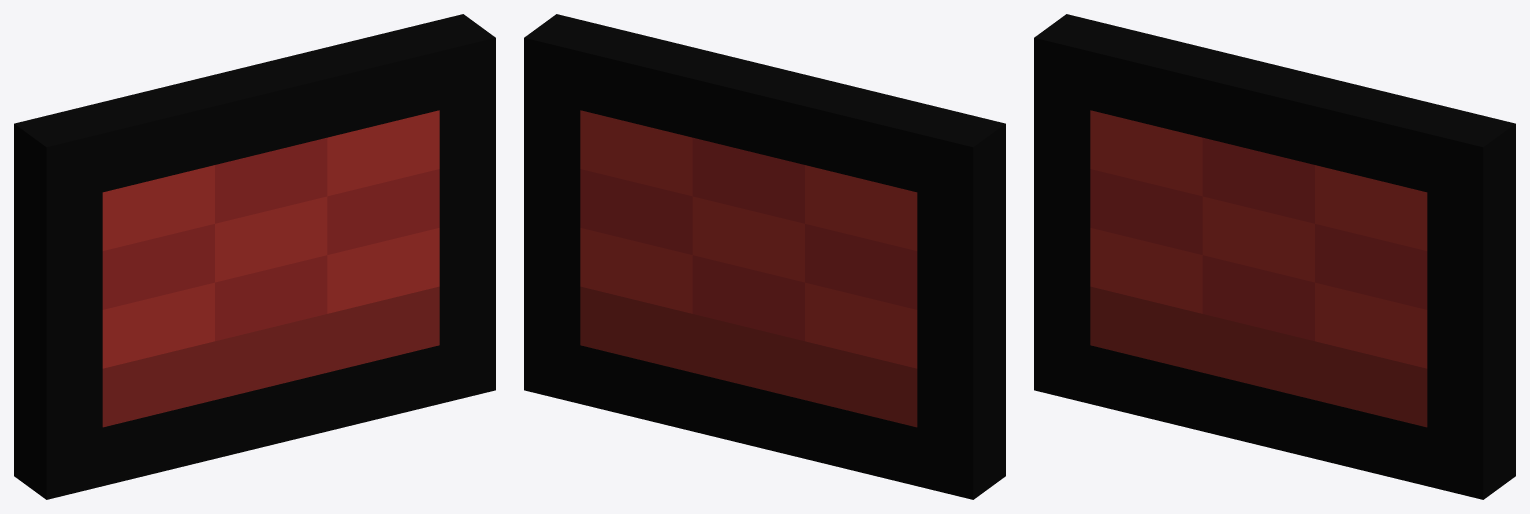
The model's file is Red Carpet.glb.
3 views of the same model, side by side, from view 1: azimuth 30°, elevation 25°; view 2: azimuth 150°, elevation 25°; view 3: azimuth 330°, elevation 25° (orthographic).
Visible parts, largest first — view 1: generated(Clone); view 2: generated(Clone); view 3: generated(Clone).
Boxes of the visible parts, x1=… form: generated(Clone): x1=14, y1=14, x2=495, y2=499; generated(Clone): x1=524, y1=14, x2=1005, y2=499; generated(Clone): x1=1034, y1=14, x2=1515, y2=499.
Bounding box in the file's own units: 8 × 6 × 1.
Materials: 1 (1 with a texture image).
